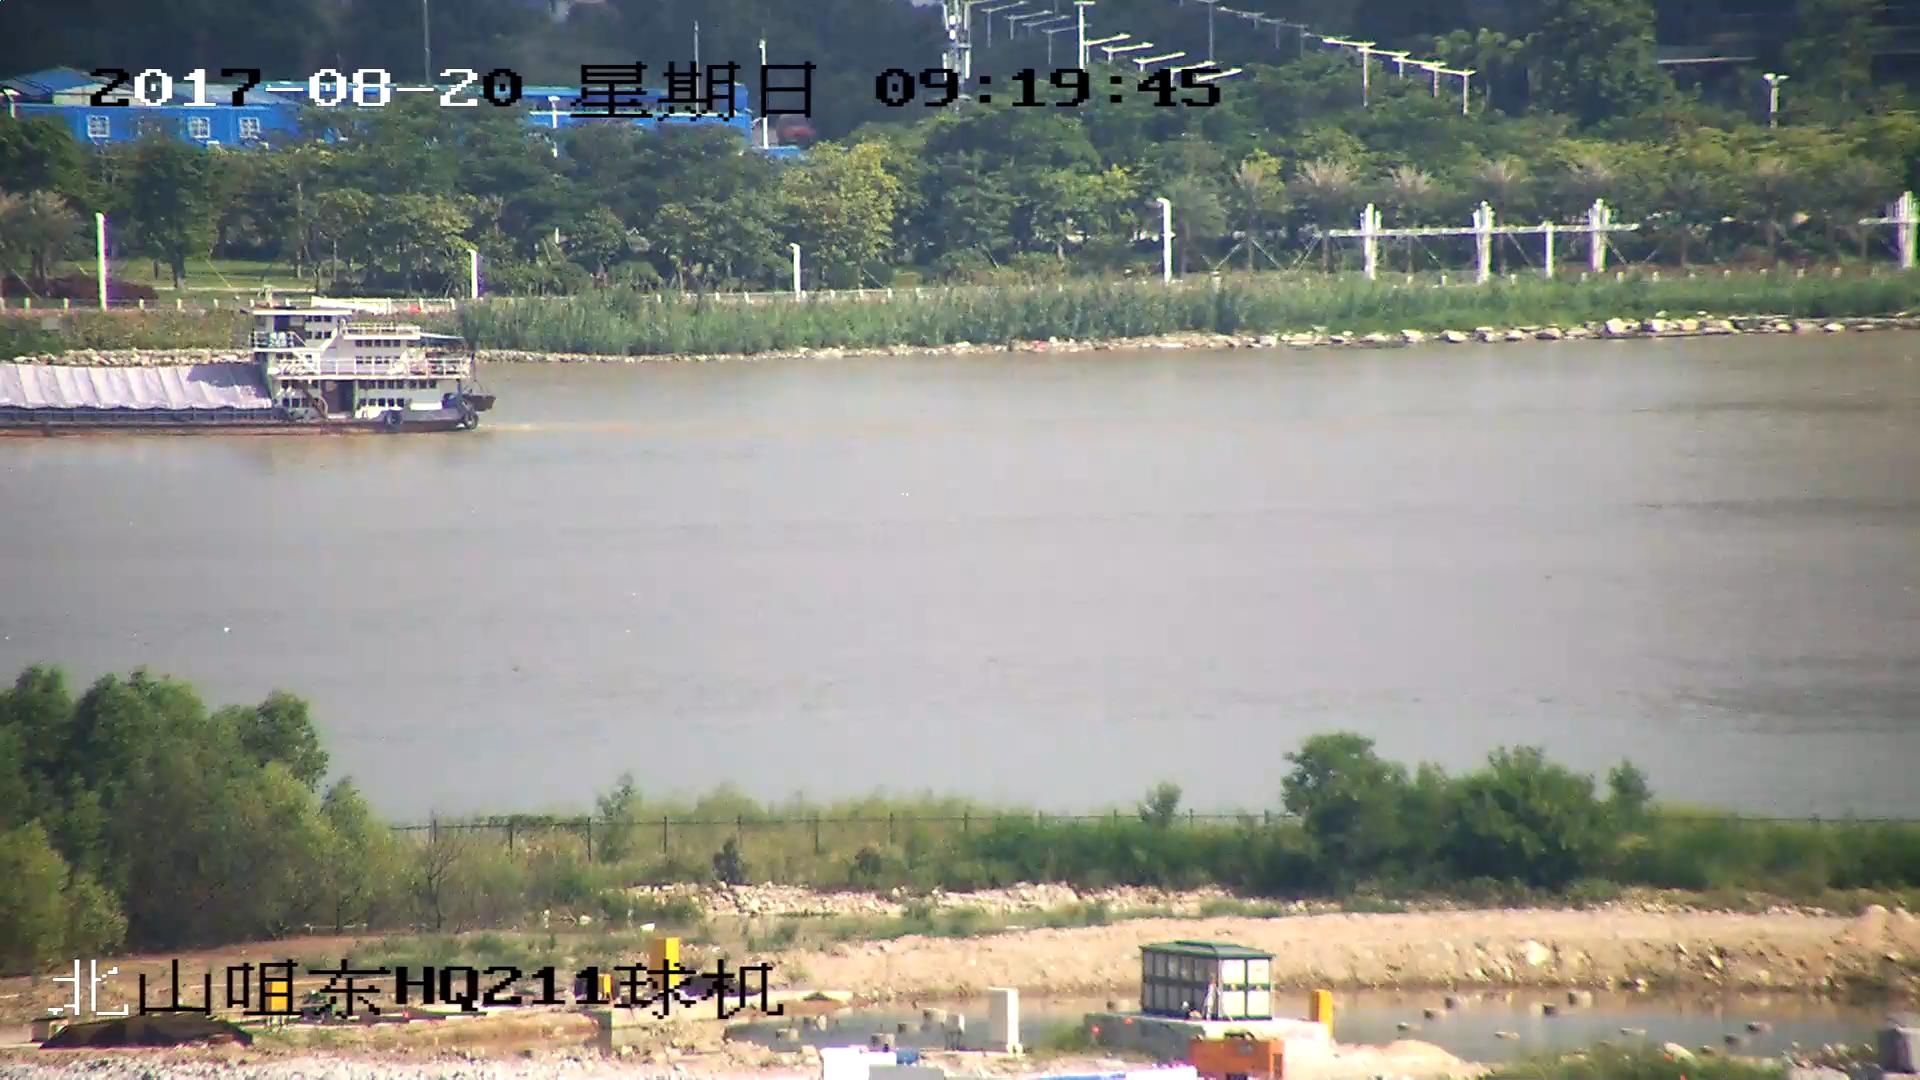general cargo ship: (1, 296, 489, 436)
